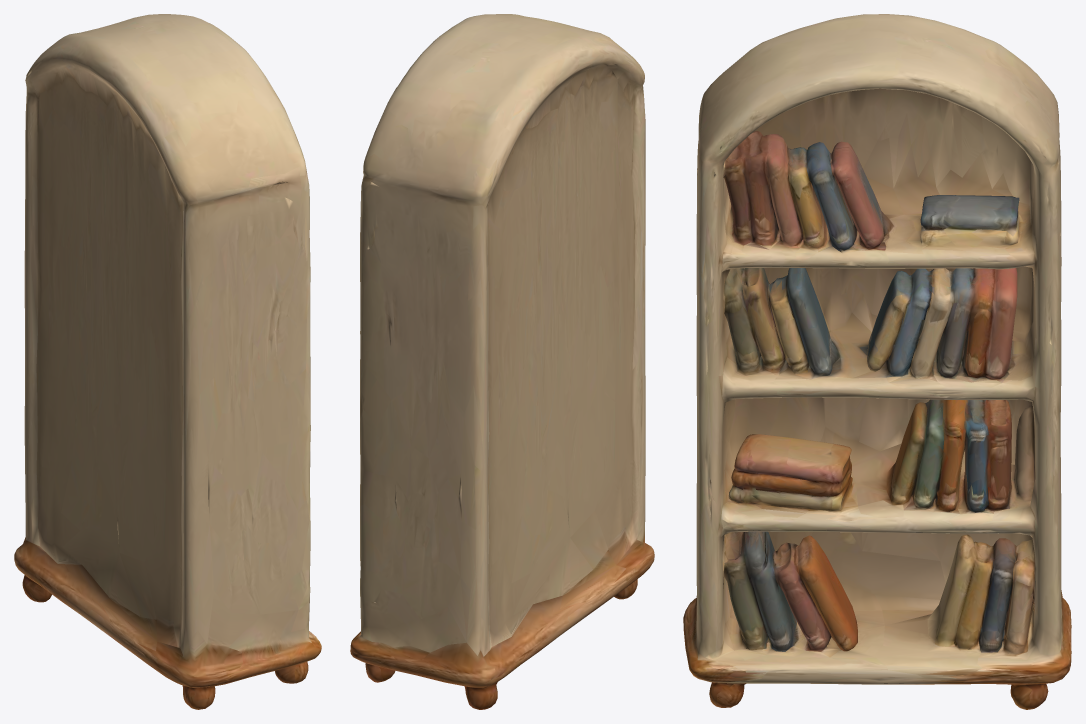
The model's file is scene-bookcase.glb.
3 views of the same model, side by side, from view 1: azimuth 30°, elevation 25°; view 2: azimuth 150°, elevation 25°; view 3: azimuth 270°, elevation 25° (orthographic). The views are drawn at different scales.
Parts seen in each view (by area): view 1: tripo_node_4fb21777-0f5c-4204-9013-cae444fe8335; view 2: tripo_node_4fb21777-0f5c-4204-9013-cae444fe8335; view 3: tripo_node_4fb21777-0f5c-4204-9013-cae444fe8335.
Boxes of the visible parts, x1=… form: tripo_node_4fb21777-0f5c-4204-9013-cae444fe8335: x1=14, y1=14, x2=321, y2=709; tripo_node_4fb21777-0f5c-4204-9013-cae444fe8335: x1=350, y1=14, x2=654, y2=709; tripo_node_4fb21777-0f5c-4204-9013-cae444fe8335: x1=683, y1=14, x2=1071, y2=709.
Bounding box in the file's own units: 0.2478 × 0.9777 × 0.5355.
Materials: 1 (1 with a texture image).
